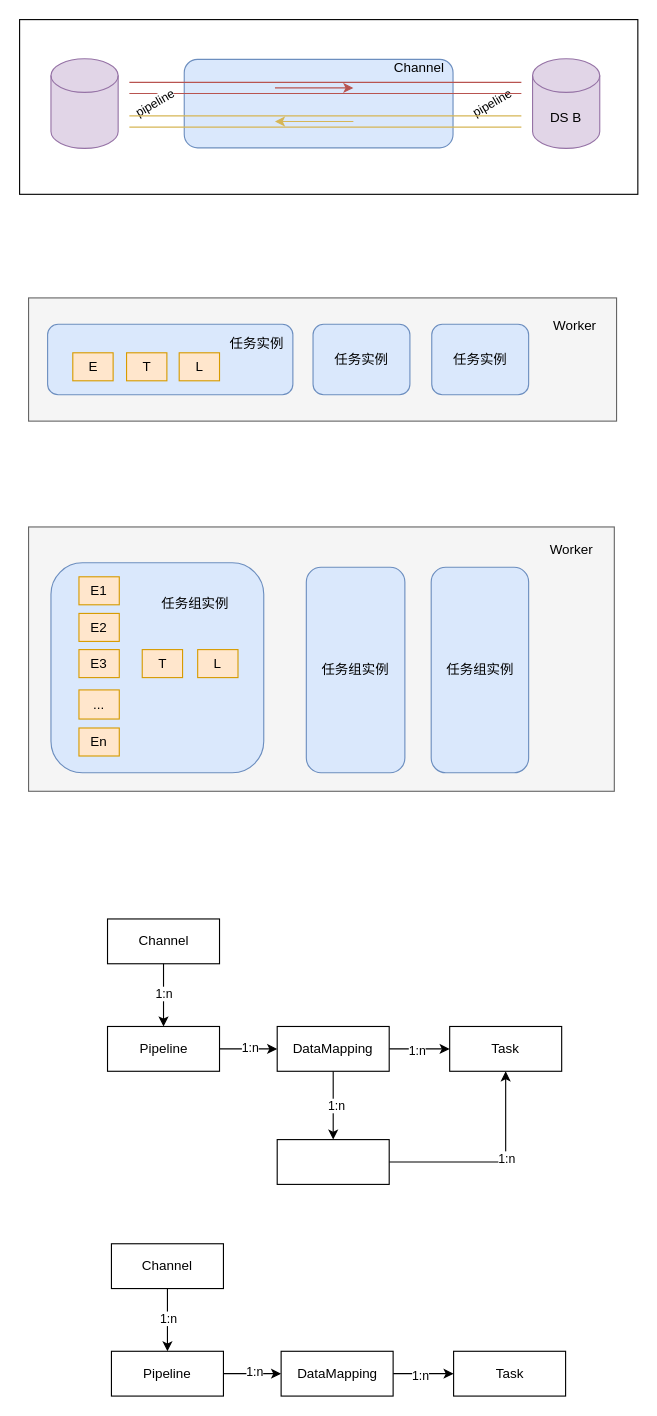
This 657x1416 diagram has some shape labels left out. Here are the shapes that lost their labels. From the top down, the centre of each, then its label:
At point (84, 103): "DS A".
At point (332, 1161): "TaskGroup".
